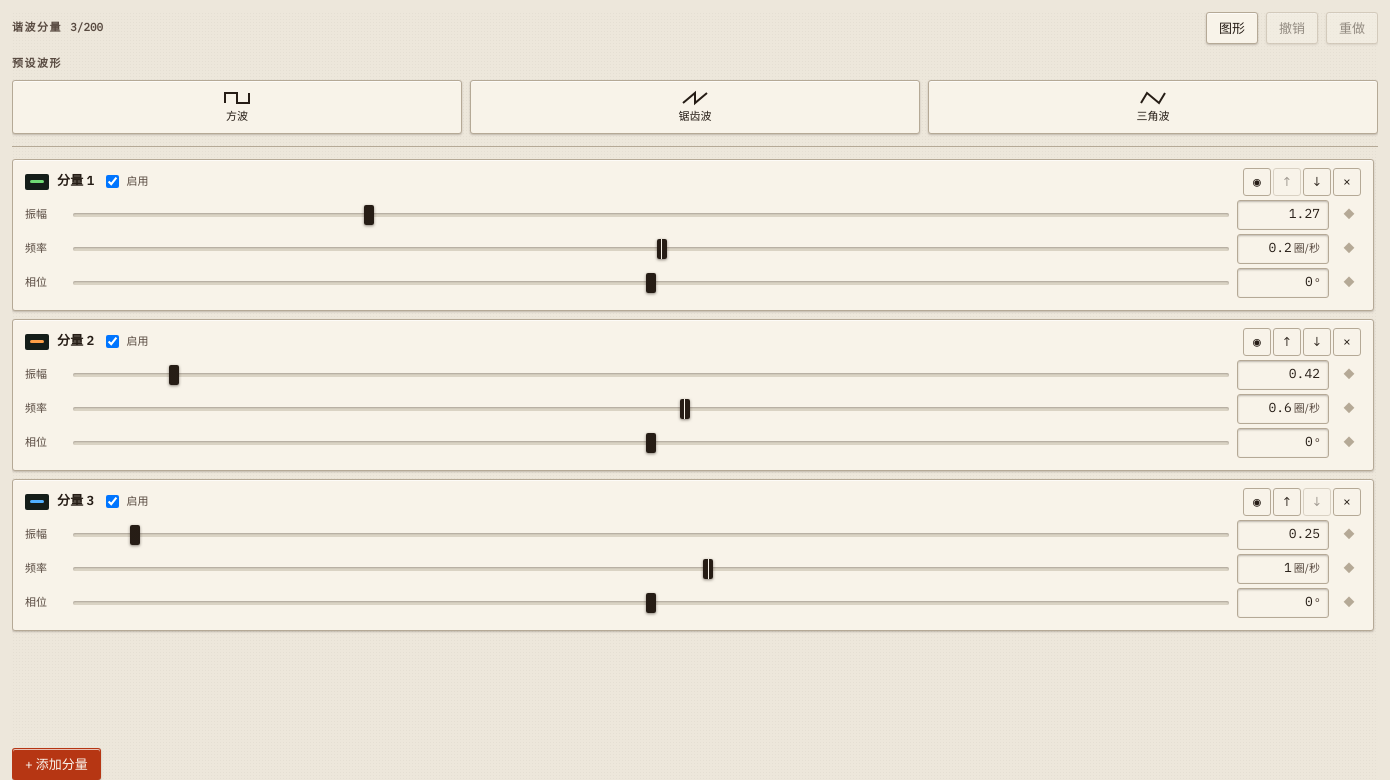
Scenario: ParamControl keyframes › warns about visual aliasing above 30 turns per second
Replace the text in the 2nd field named "分量 1 频率数值" with "45" at (1269, 249), box [1246,237,1292,261]
Then press Enter
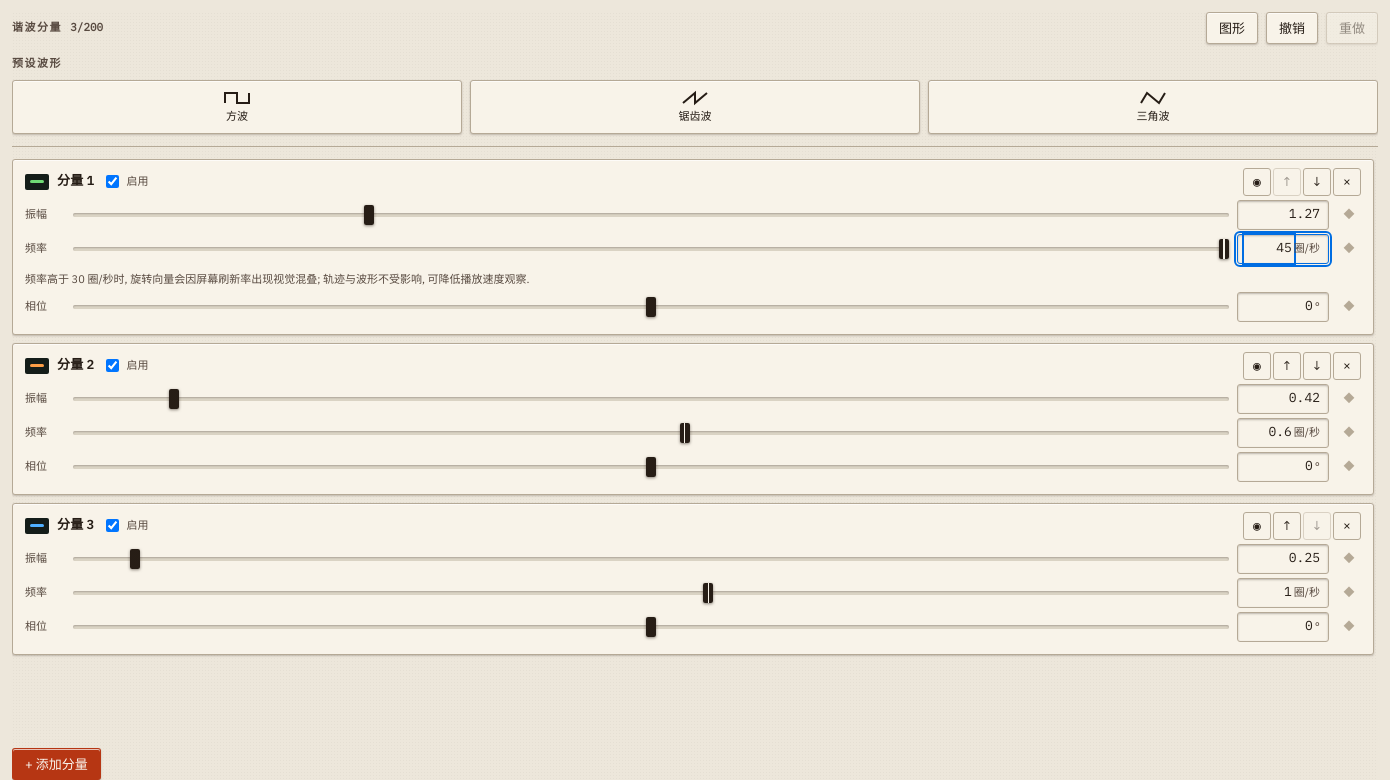
Now the text "频率高于 30 圈/秒时, 旋转向量会因屏幕刷新率出现视觉混叠; 轨迹与波形不受影响, 可降低播放速度观察." is shown, box [25,272,530,286]
